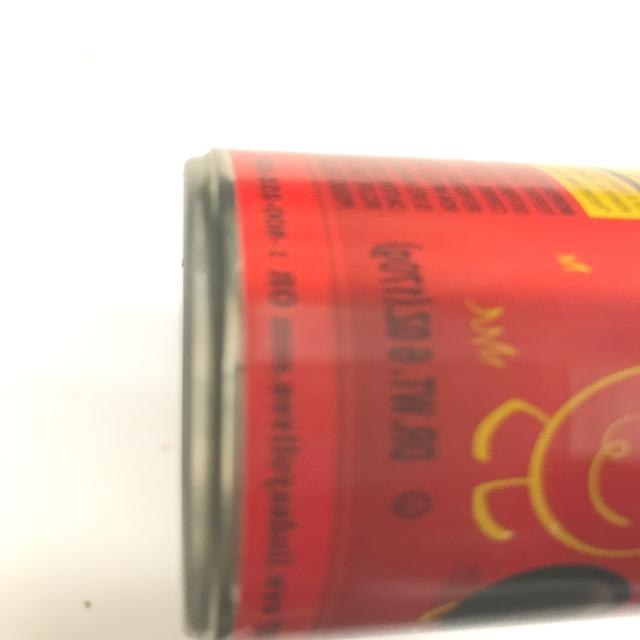Metal: (152, 140, 640, 640)
